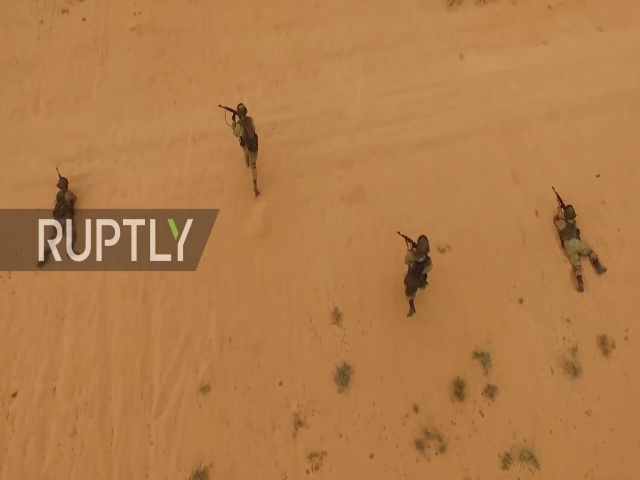person: (548, 192, 608, 294), (223, 100, 265, 199), (396, 228, 434, 320)
